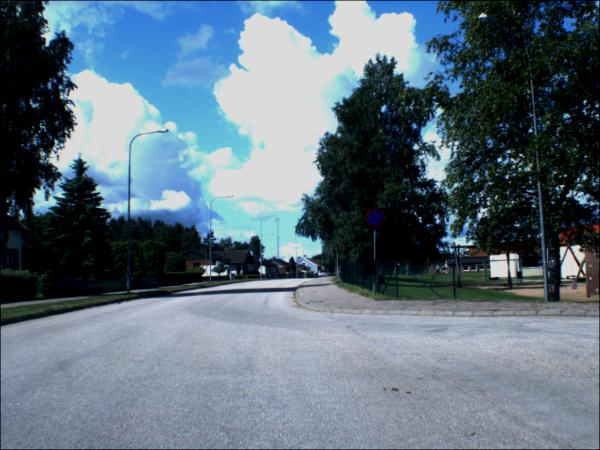NO_PARKING: (366, 209, 387, 230)
